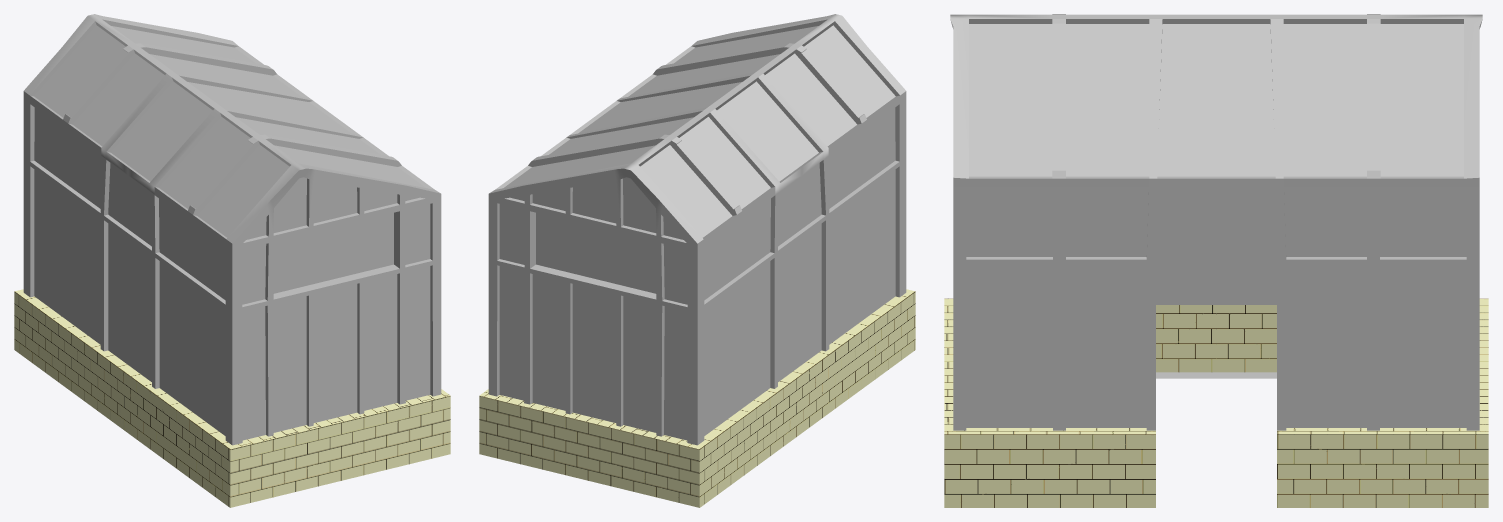
File: m_greenhouse.fbx
3 renders of one model, left to right at view 1: azimuth 30°, elevation 25°; view 2: azimuth 150°, elevation 25°; view 3: azimuth 270°, elevation 25°, orthographic. The views are drawn at different scales.
Parts seen in each view (by area): view 1: polySurface891; view 2: polySurface891; view 3: polySurface891.
Part boxes in pixels (<box>): polySurface891: <box>14,14,450,507</box>; polySurface891: <box>479,14,915,507</box>; polySurface891: <box>944,14,1488,507</box>.
Bounding box in the file's own units: 781 × 1078 × 1325.
